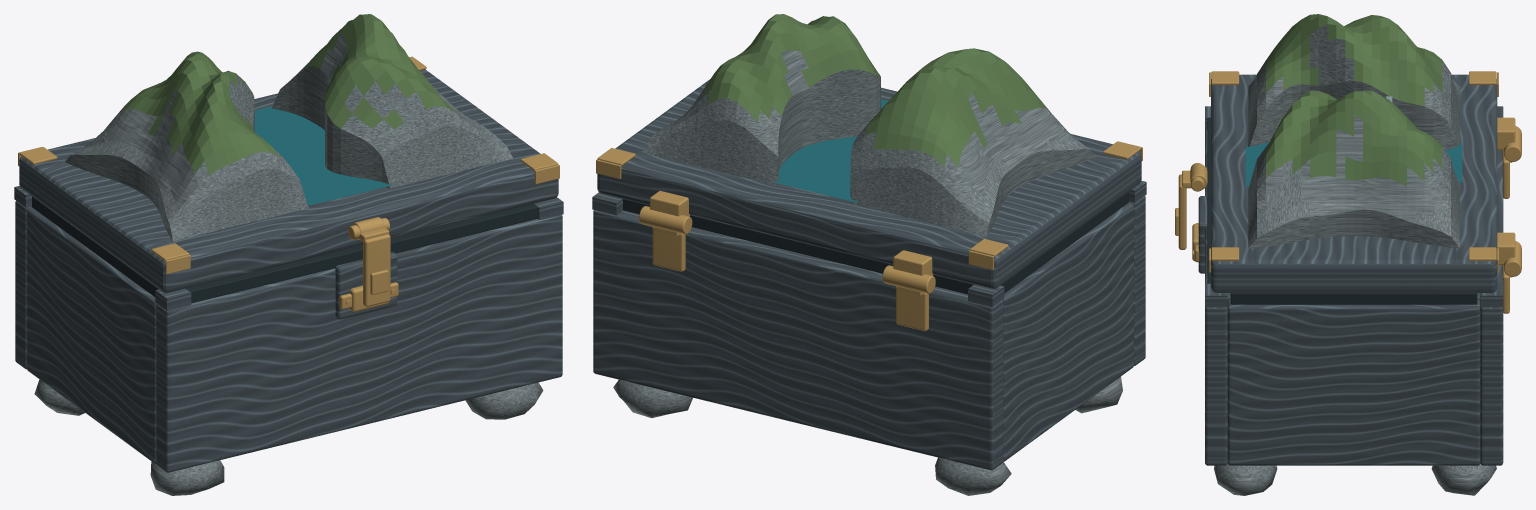
File: norway.glb
3 views of the same model, side by side, from view 1: azimuth 30°, elevation 25°; view 2: azimuth 150°, elevation 25°; view 3: azimuth 270°, elevation 25° (orthographic). The views are drawn at different scales.
Visible parts, largest first — view 1: Gneiss / front, Lid / polished slab, Fjord bank / west, Gneiss / side, Fjord bank / east, Mineral seam / long, Fjord / continuous water, Gneiss / rear, Crystalline foot, Crystalline foot.002, Gneiss / clasp seat, Latch / lifting hasp (+3 smaller); view 2: Gneiss / rear, Lid / polished slab, Fjord bank / west, Fjord bank / east, Gneiss / side, Fjord / continuous water, Mineral seam / long.001, Gneiss / front, Crystalline foot.001, Crystalline foot.003, Mineral seam / side, Hinge / fixed mount.001 (+7 smaller); view 3: Gneiss / side.001, Fjord bank / east, Lid / polished slab, Fjord bank / west, Gneiss / rear, Gneiss / front, Mineral seam / side.001, Crystalline foot.002, Crystalline foot.003, Fjord / continuous water, Gneiss / clasp seat, Mineral seam / long (+11 smaller).
Boxes of the visible parts, x1,y1,x2,y2 form: Gneiss / front: (156,214,562,472); Lid / polished slab: (19,69,558,292); Fjord bank / west: (65,51,308,241); Gneiss / side: (27,207,156,463); Fjord bank / east: (272,14,512,188); Mineral seam / long: (185,203,537,302); Fjord / continuous water: (254,106,392,205); Gneiss / rear: (15,201,32,369); Crystalline foot: (150,460,224,495); Crystalline foot.002: (465,382,543,419); Gneiss / clasp seat: (335,252,397,319); Latch / lifting hasp: (363,234,390,306); Gneiss / rear: (593,210,1003,470); Lid / polished slab: (597,79,1141,288); Fjord bank / west: (850,48,1095,236); Fjord bank / east: (643,14,880,186); Gneiss / side: (1003,202,1133,461); Fjord / continuous water: (773,99,888,202); Mineral seam / long.001: (623,199,973,294); Gneiss / front: (1128,196,1145,365); Crystalline foot.001: (935,457,1011,495); Crystalline foot.003: (613,379,692,418); Mineral seam / side: (1001,191,1128,293); Hinge / fixed mount.001: (652,227,685,271); Gneiss / side.001: (1227,300,1480,465); Fjord bank / east: (1248,90,1459,248); Lid / polished slab: (1211,74,1497,292); Fjord bank / west: (1248,14,1459,150); Gneiss / rear: (1480,150,1503,465); Gneiss / front: (1205,130,1227,465); Mineral seam / side.001: (1230,293,1477,304); Crystalline foot.002: (1214,464,1277,495); Crystalline foot.003: (1431,464,1496,495); Fjord / continuous water: (1245,142,1462,186); Gneiss / clasp seat: (1198,196,1207,273); Mineral seam / long: (1207,117,1210,283).
Size of the model in its own units: 3.72 by 3.37 by 2.88.
Materials: 7 (2 with a texture image).
